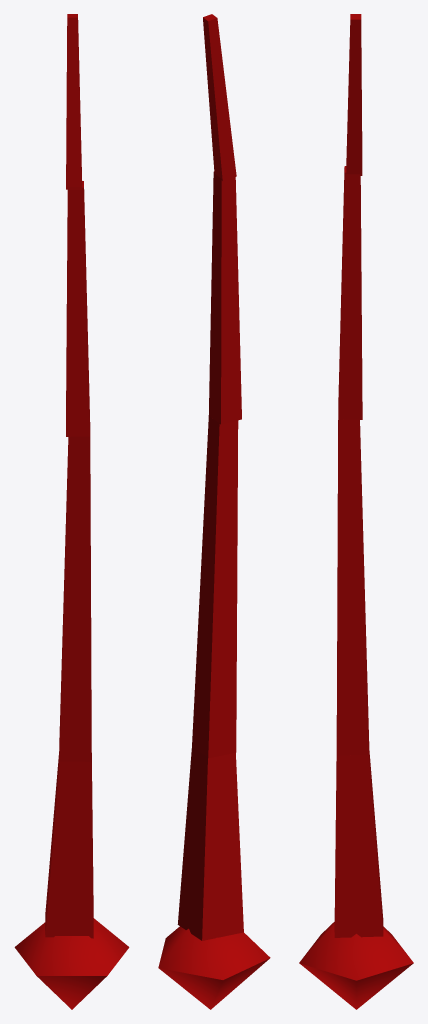
File: SM_Env_Tree_Palm_03_Collision.glb
3 renders of one model, left to right at view 1: azimuth 90°, elevation 25°; view 2: azimuth 210°, elevation 25°; view 3: azimuth 270°, elevation 25°, orthographic.
Parts seen in each view (by area): view 1: SM_Env_Tree_Palm_03_Collision; view 2: SM_Env_Tree_Palm_03_Collision; view 3: SM_Env_Tree_Palm_03_Collision.
Part boxes in pixels (x1=…): SM_Env_Tree_Palm_03_Collision: x1=14, y1=14, x2=129, y2=1009; SM_Env_Tree_Palm_03_Collision: x1=158, y1=14, x2=270, y2=1009; SM_Env_Tree_Palm_03_Collision: x1=299, y1=14, x2=413, y2=1009.
Size of the model in its own units: 1.08 by 10.86 by 1.14.
